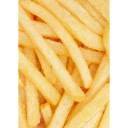frenchfries: (17, 1, 111, 126)
